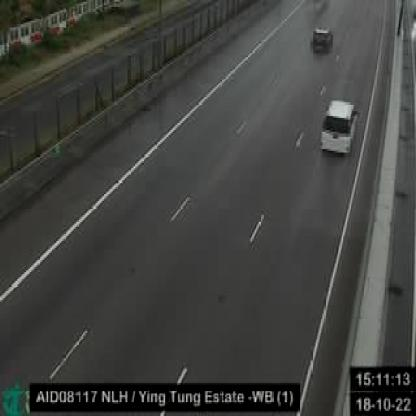Car: (318, 99, 360, 157), (309, 25, 335, 56)
